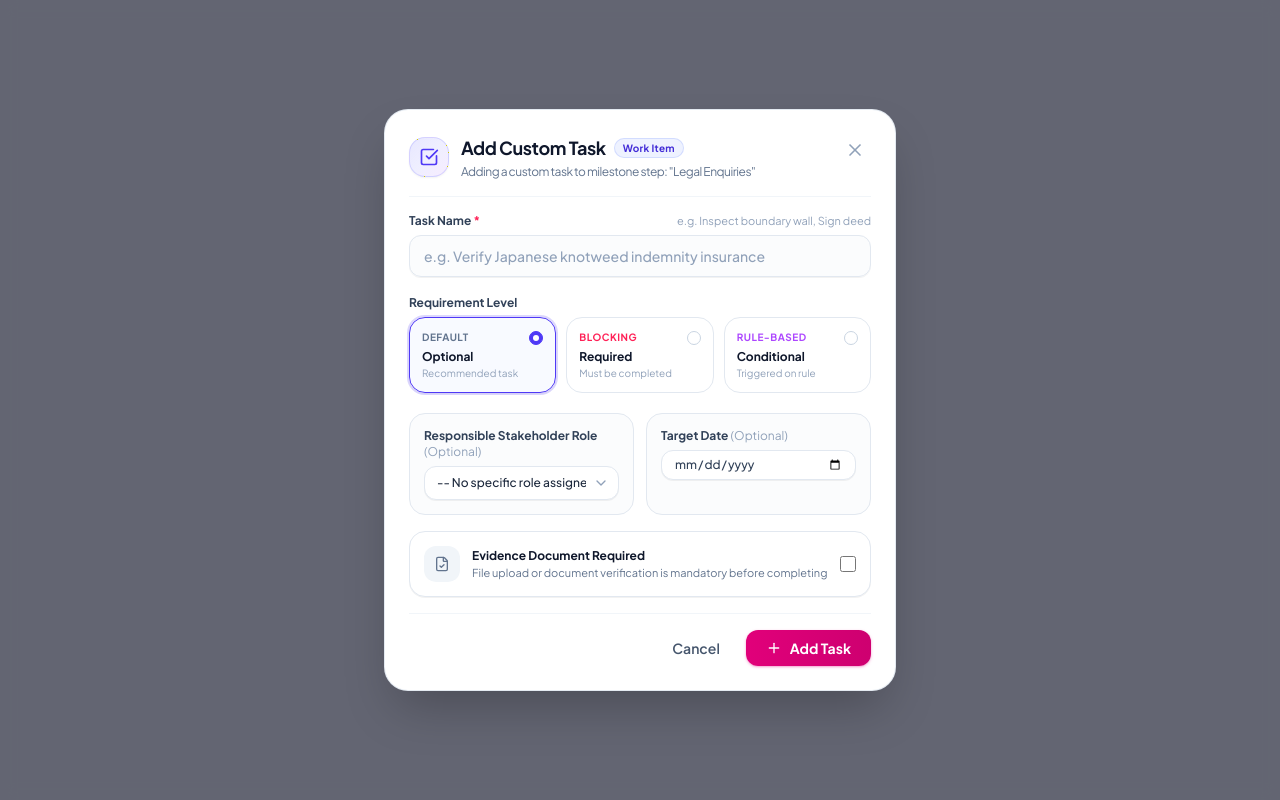
Test case: AddAdHocWorkItemModal › validates empty task name
The image size is (1280, 800).
Click the button "Add Task" at (808, 648), box [746,630,871,666]
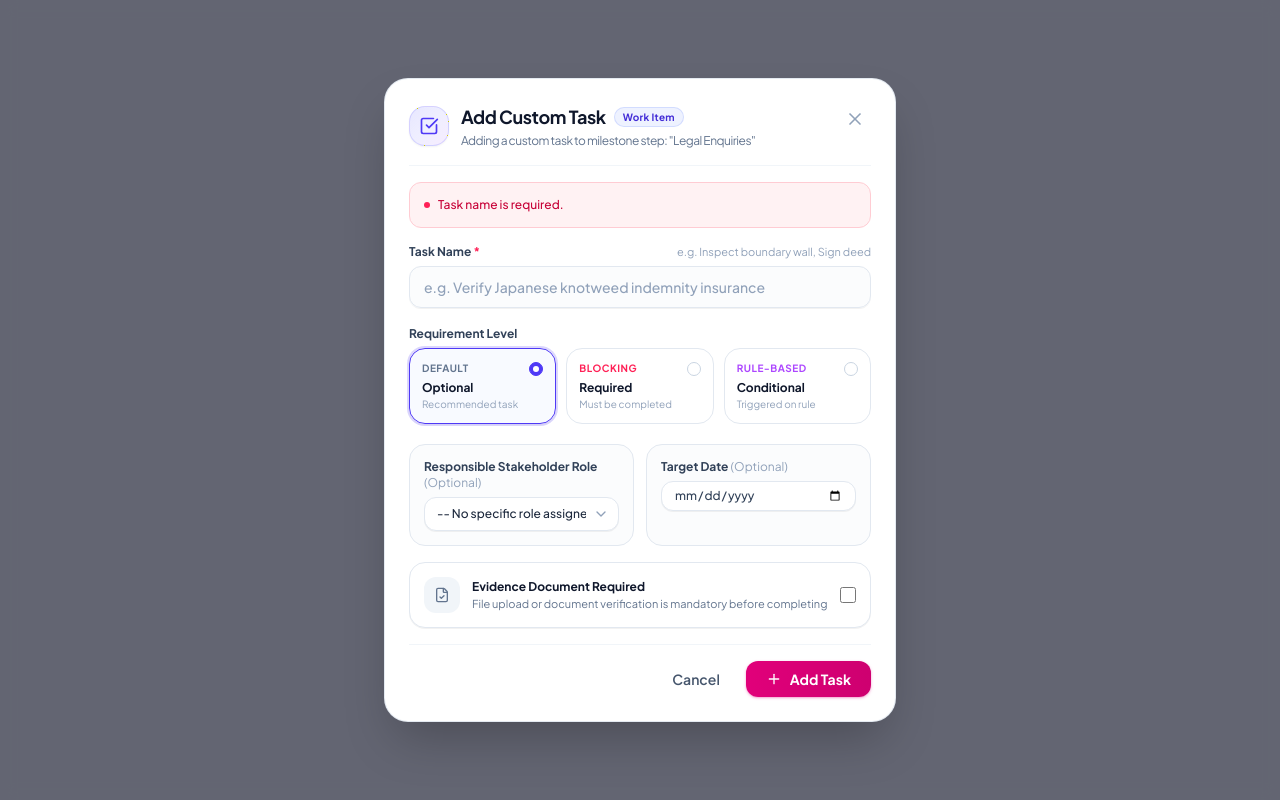
Expected: the text "Task name is required." is shown, [438,197,564,213]
